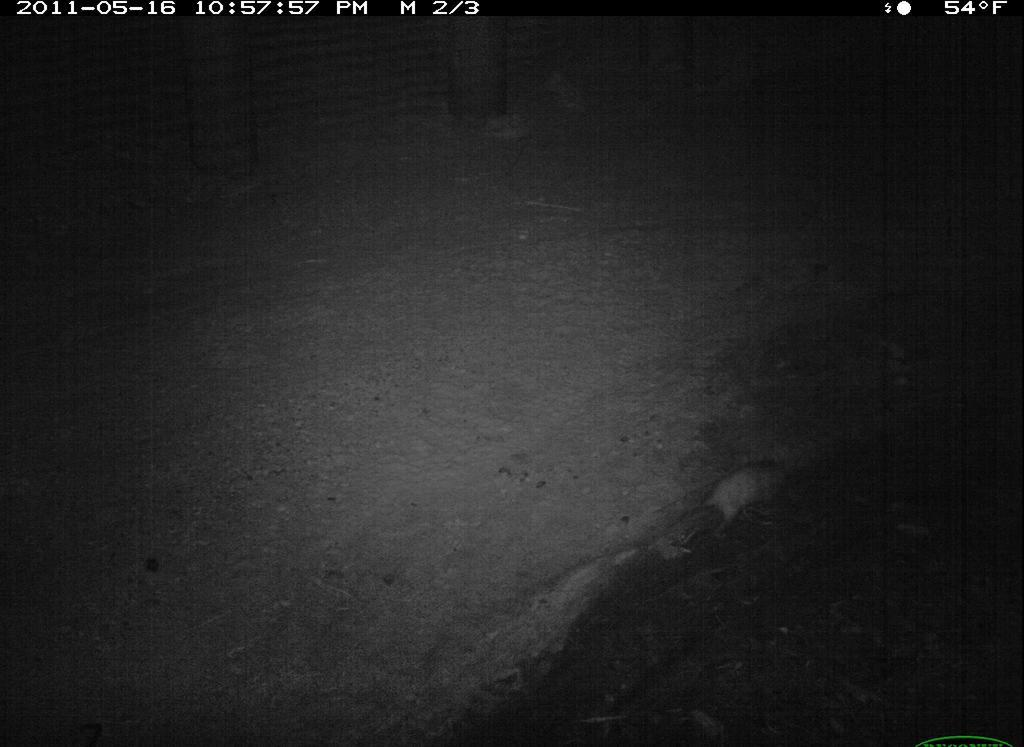opossum: (661, 447, 806, 543)
